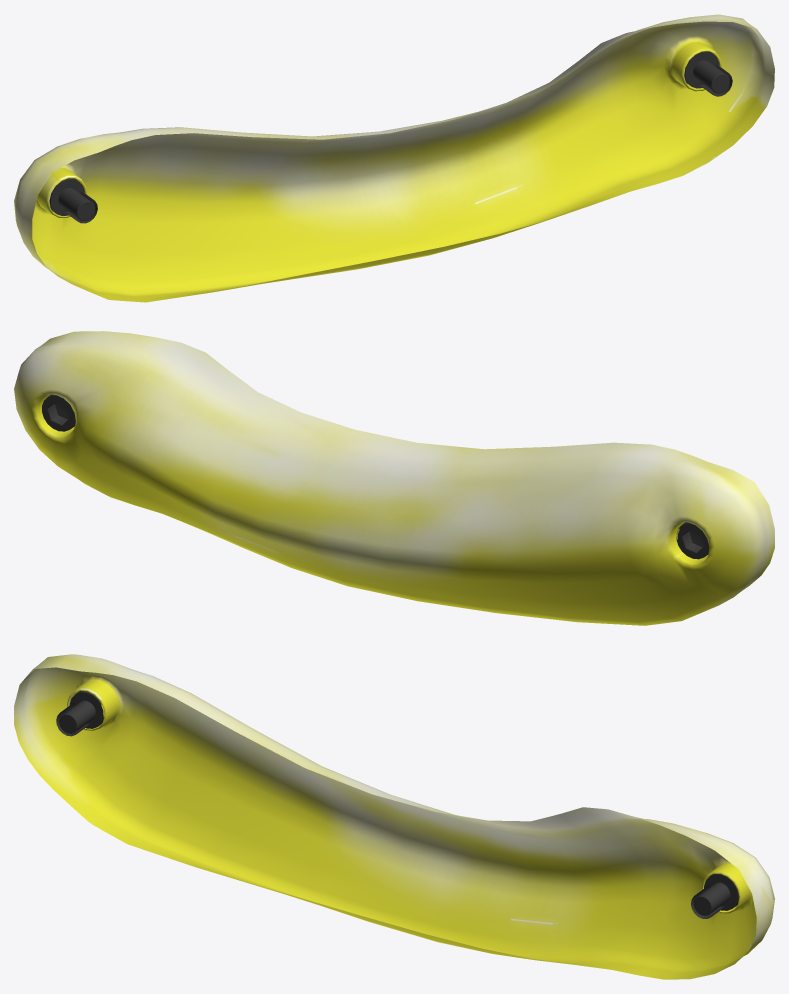
The model's file is hold1.obj.
3 views of the same model, one above another, from view 1: azimuth 30°, elevation 25°; view 2: azimuth 150°, elevation 25°; view 3: azimuth 330°, elevation 25° (orthographic).
Visible parts, largest first — view 1: Hold_Body, Screws; view 2: Hold_Body, Screws; view 3: Hold_Body, Screws.
Part boxes in pixels (box(x1,y1,x2,y2)): Hold_Body: box(14, 14, 774, 302); Screws: box(49, 51, 732, 223); Hold_Body: box(14, 331, 774, 625); Screws: box(42, 394, 709, 559); Hold_Body: box(14, 654, 774, 979); Screws: box(56, 690, 739, 918).
Size of the model in its own units: 0.5414 by 0.1394 by 0.0501.
2 materials, 1 textured.
